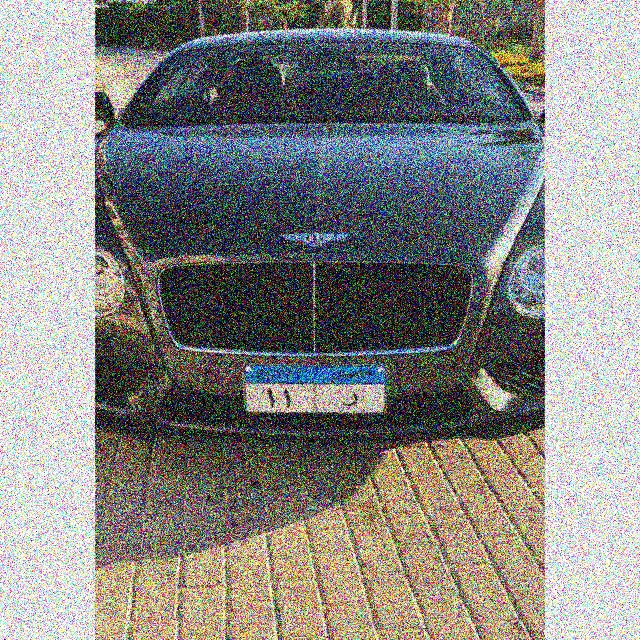License Plate: (240, 361, 390, 418)
